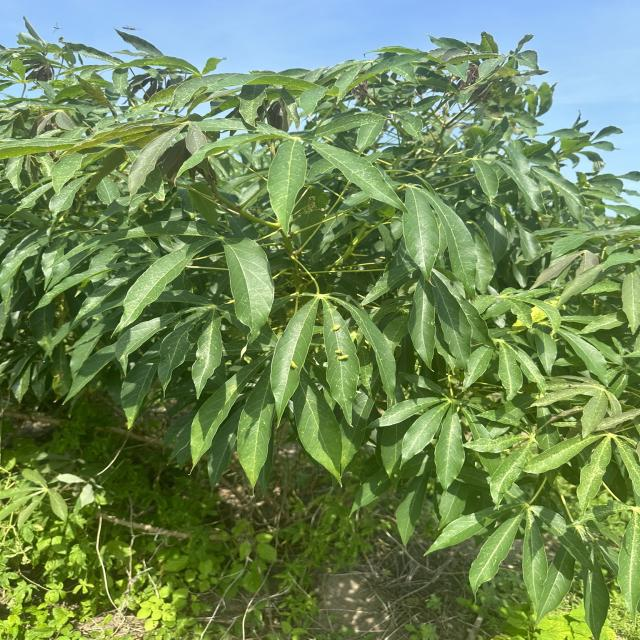Maleza: (70, 505, 389, 634), (3, 434, 178, 640)
Mosca: (334, 347, 352, 365), (330, 318, 342, 335), (287, 358, 299, 371)
